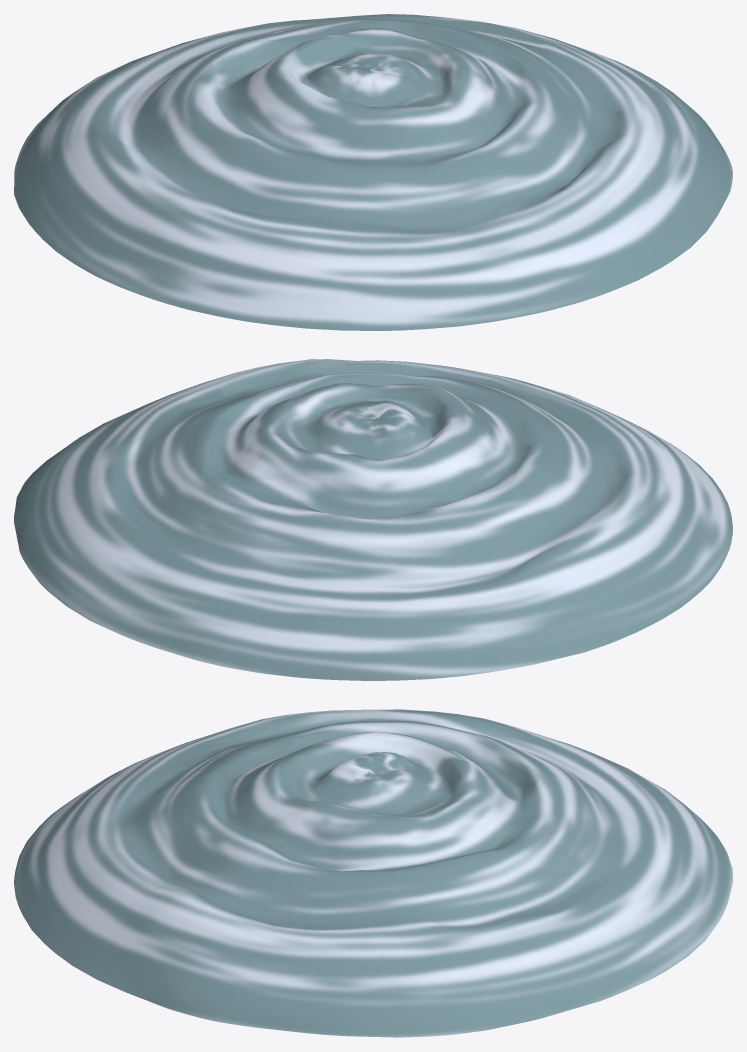
The model's file is SM_water_noise.glb.
3 views of the same model, one above another, from view 1: azimuth 30°, elevation 25°; view 2: azimuth 150°, elevation 25°; view 3: azimuth 270°, elevation 25° (orthographic).
Visible parts, largest first — view 1: SM_water_noise; view 2: SM_water_noise; view 3: SM_water_noise.
Boxes of the visible parts, left/top/right/bottom form: SM_water_noise: left=14, top=14, right=732, bottom=330; SM_water_noise: left=14, top=359, right=732, bottom=680; SM_water_noise: left=14, top=709, right=732, bottom=1037.
Size of the model in its own units: 4.7 by 0.8313 by 4.65.
1 material, 1 textured.
